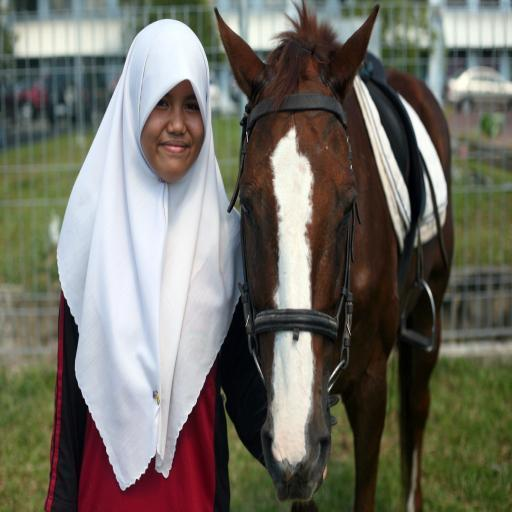horse: (211, 0, 457, 511)
